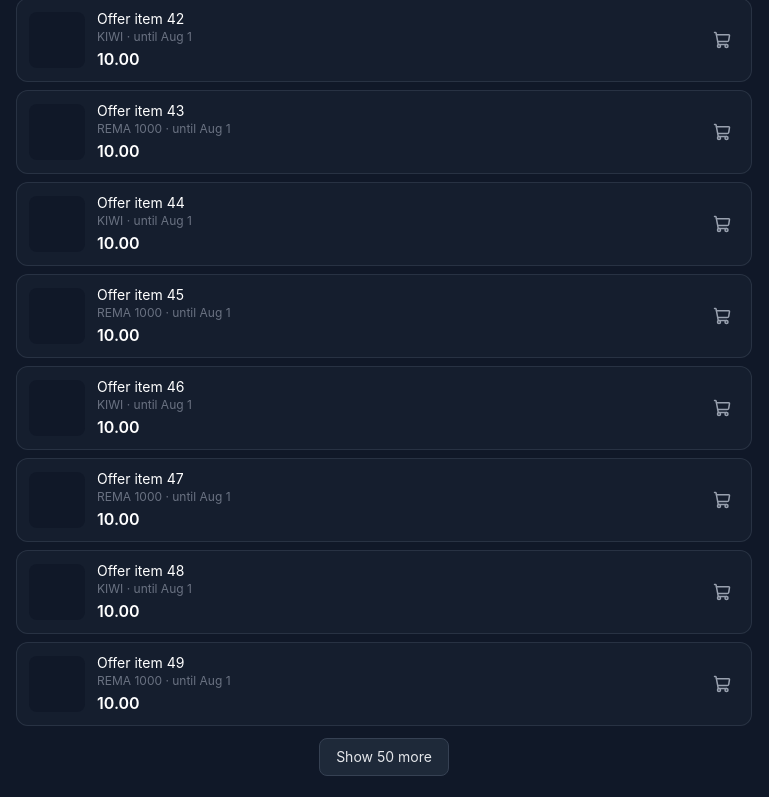
Test: OffersPage › paging and filtered-empty state › resets to the first page when the search changes
(page scrolled)
Click the button "Show 50 more" at (384, 757), box 319,738 -> 449,776
(page scrolled)
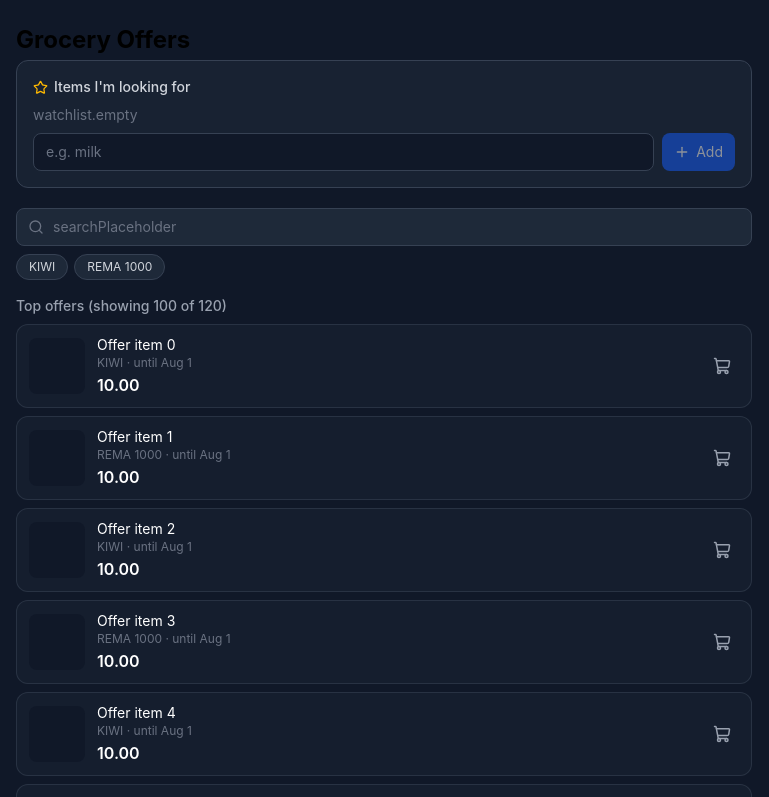
Type "item 1" into the search field labelled "searchPlaceholder" at (384, 227), box 16,208 -> 752,246
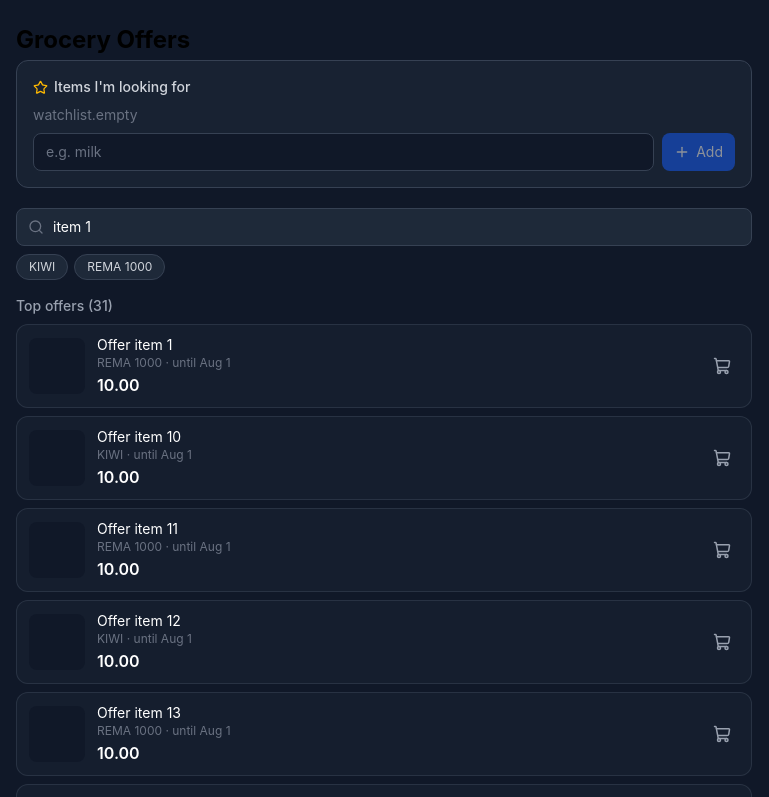
Result: the heading "Top offers (31)" is shown at 16,297 -> 113,314
Clear the search field named "searchPlaceholder" at (384, 227), box 16,208 -> 752,246
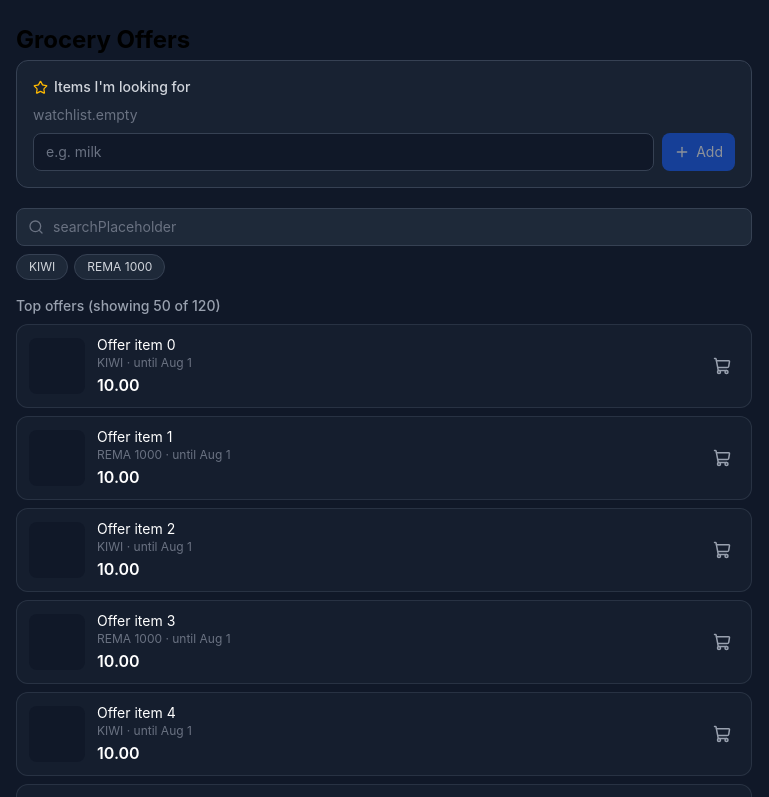
Result: the heading "Top offers (showing 50 of 120)" is shown at 16,297 -> 221,314
